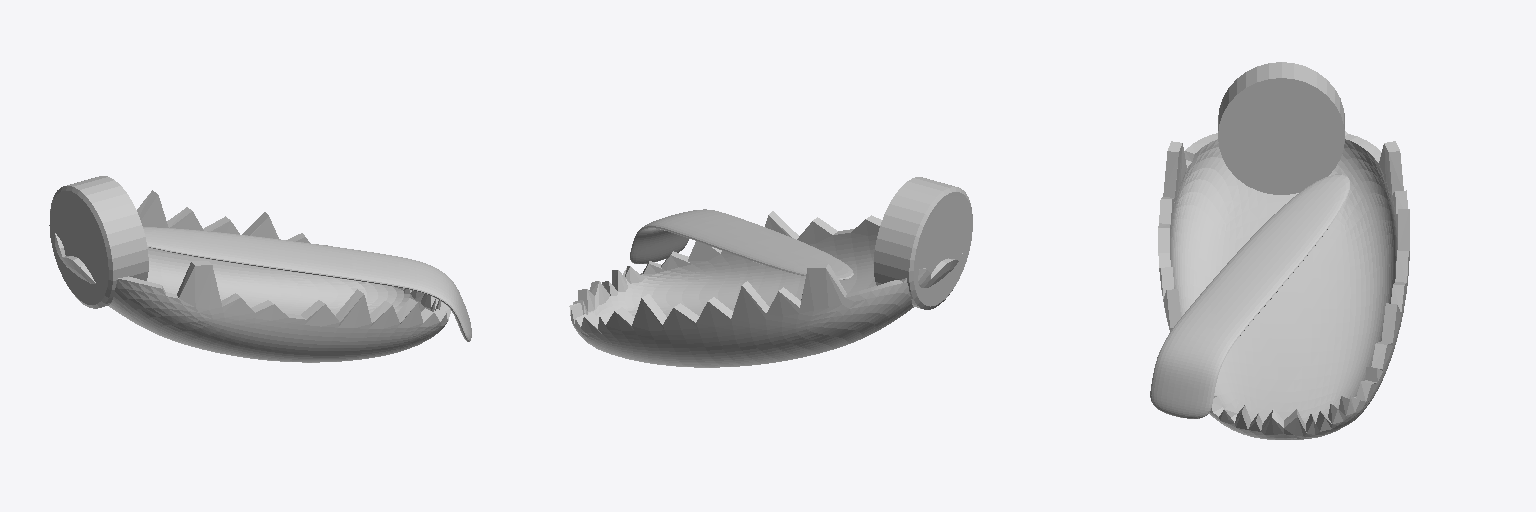
File: mandibula_inferior_Goddard.obj
3 renders of one model, left to right at view 1: azimuth 30°, elevation 25°; view 2: azimuth 150°, elevation 25°; view 3: azimuth 270°, elevation 25°, orthographic.
Visible parts, largest first — view 1: mandibula_inferior; view 2: mandibula_inferior; view 3: mandibula_inferior.
Boxes of the visible parts, <box> form: mandibula_inferior: <box>49,176,471,362</box>; mandibula_inferior: <box>569,177,972,367</box>; mandibula_inferior: <box>1150,62,1409,439</box>.
Bounding box in the file's own units: 2.68 × 1.55 × 1.66.